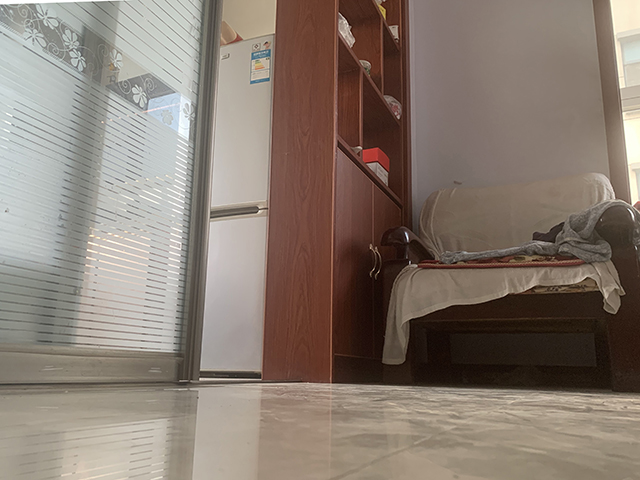cabinet: (265, 130, 412, 385)
sofa: (379, 171, 640, 396)
